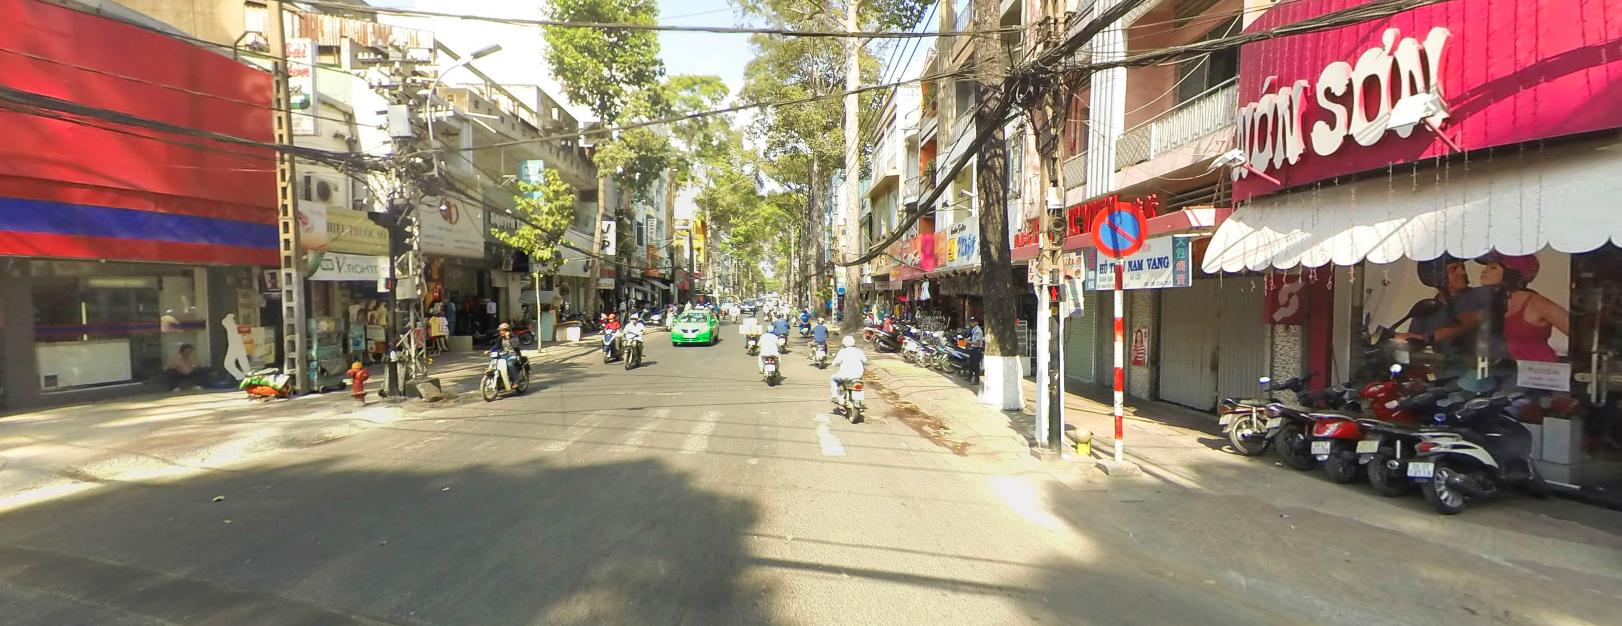Cam dung va do: (1086, 198, 1148, 255)
